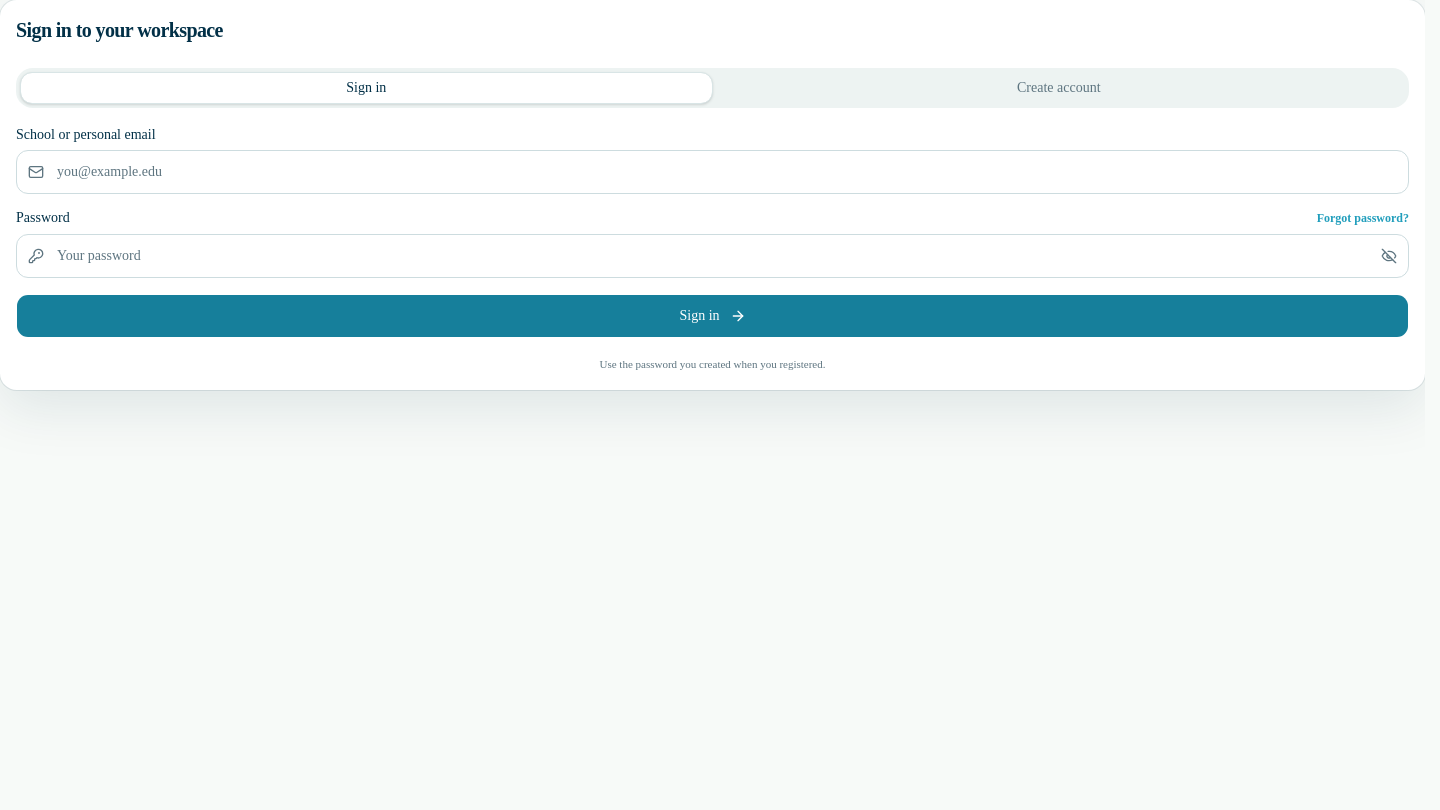
Test: AuthForm › does not register when the password confirmation differs
Click the button "Create account". click: (1059, 88)
box: top-left (712, 72), bottom-right (1405, 104)
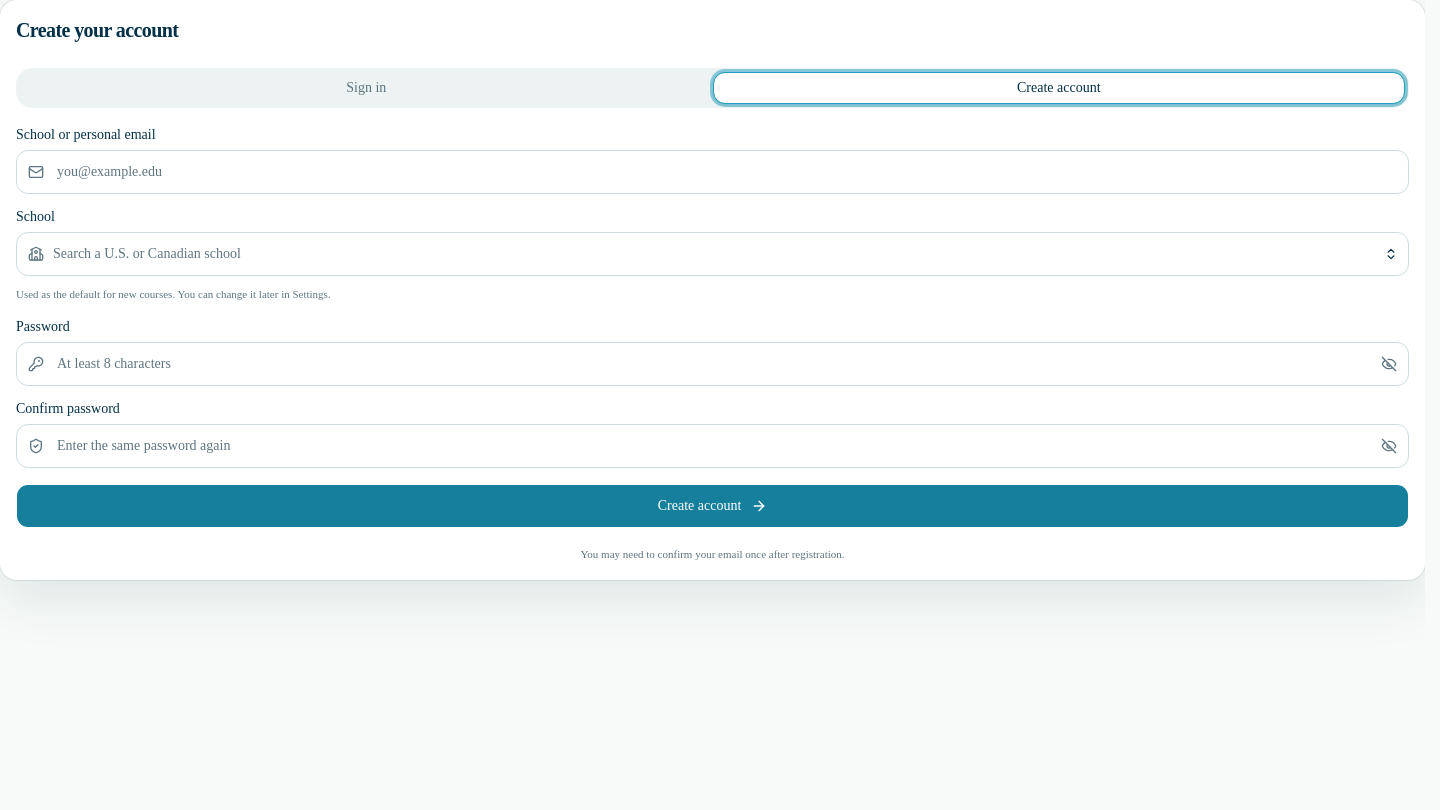
Type "new@example.edu" into the field labelled "School or personal email". click: (712, 172)
box: top-left (16, 150), bottom-right (1409, 194)
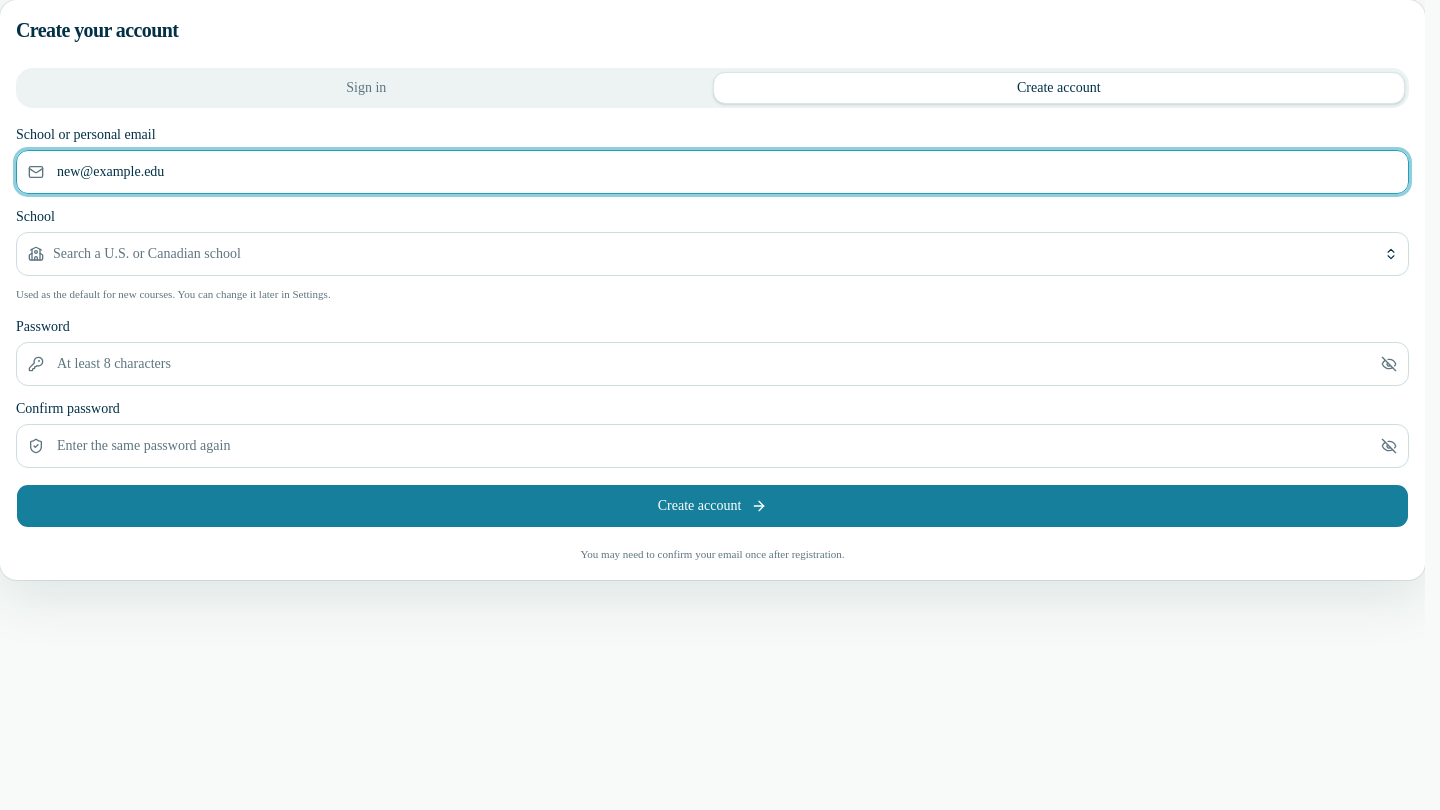
Type "strong-pass-123" into the password field labelled "Password". click: (712, 364)
box: top-left (16, 342), bottom-right (1409, 386)
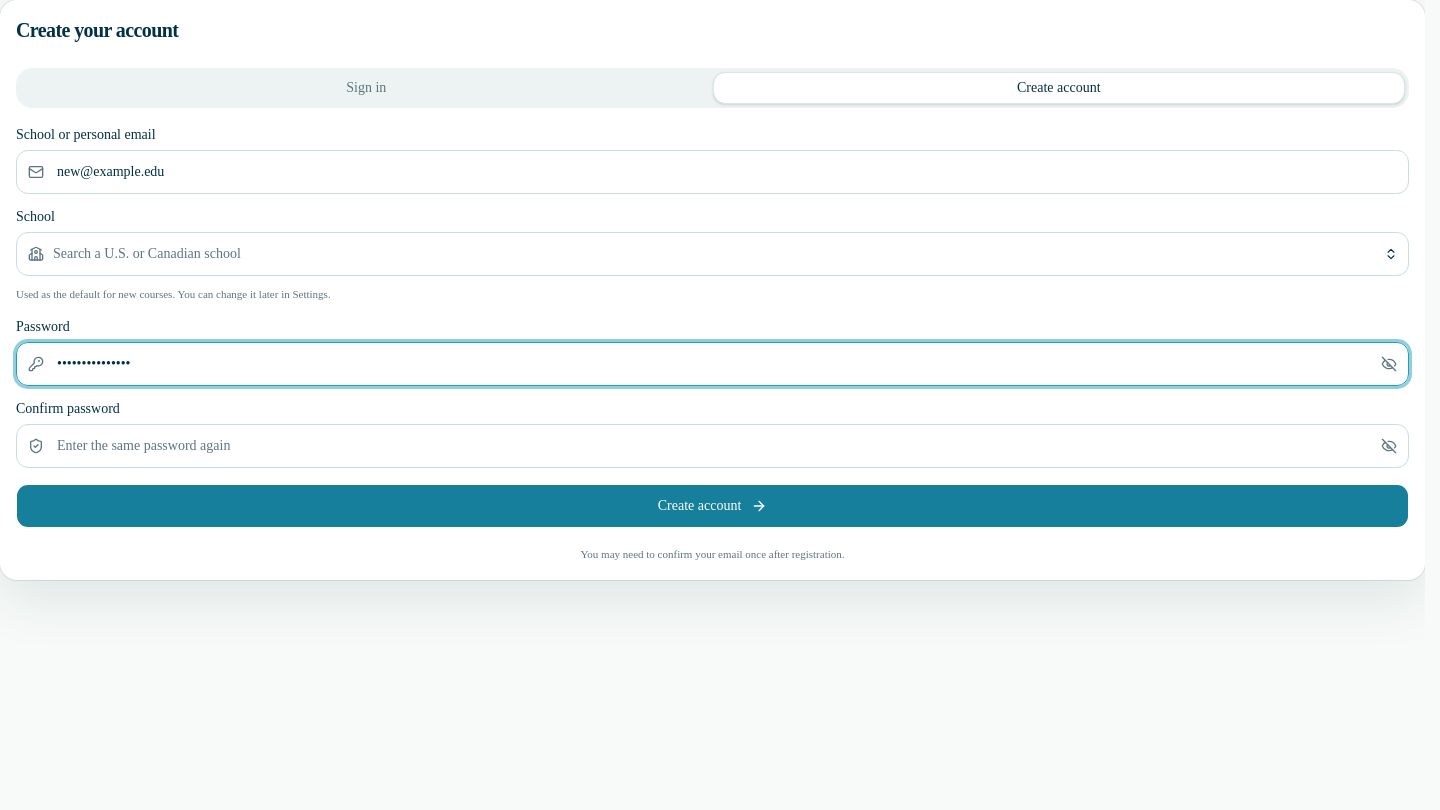
Type "different-pass-123" into the password field labelled "Confirm password". click: (712, 446)
box: top-left (16, 424), bottom-right (1409, 468)
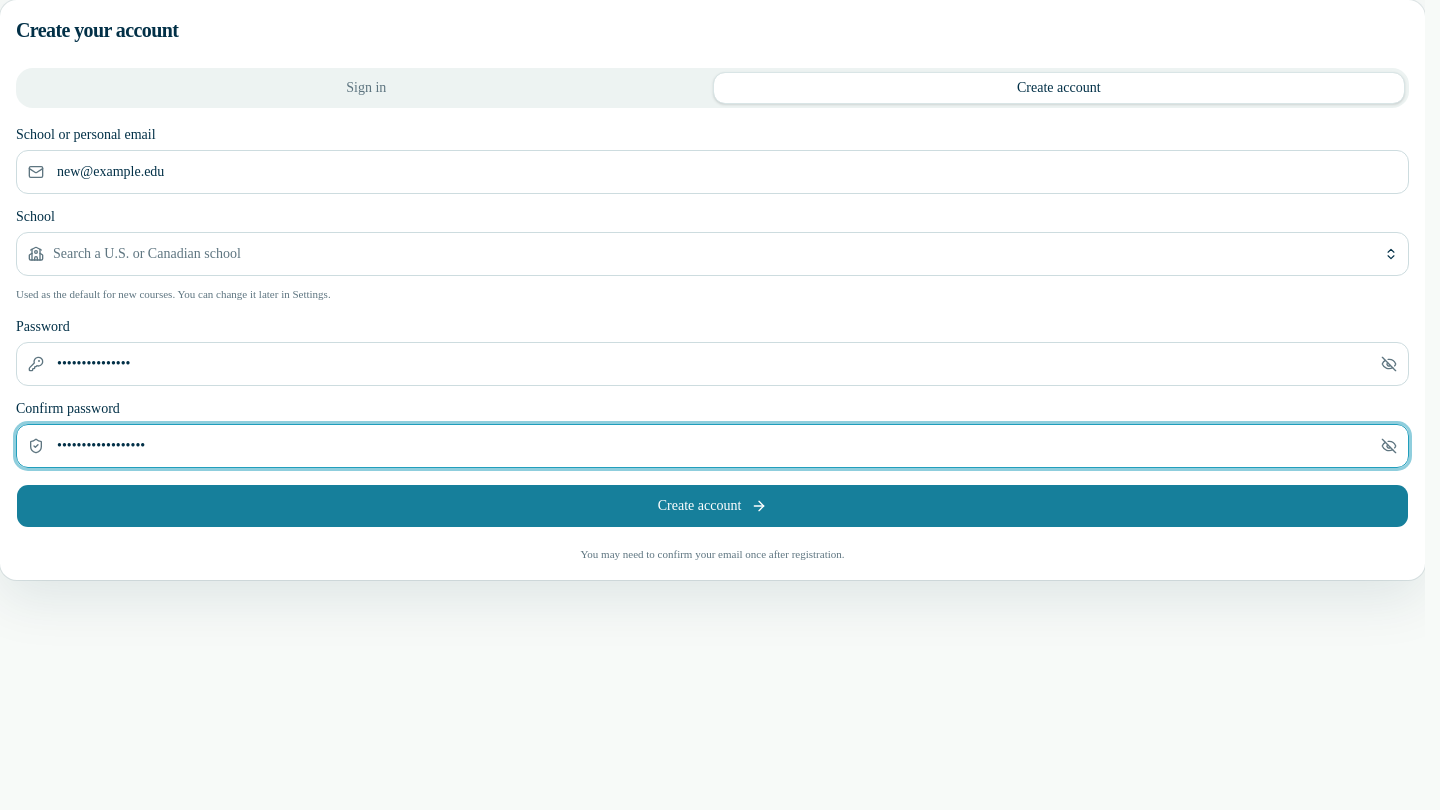
Click the button "Create account" below "Confirm password". click: (712, 506)
box: top-left (16, 484), bottom-right (1409, 528)
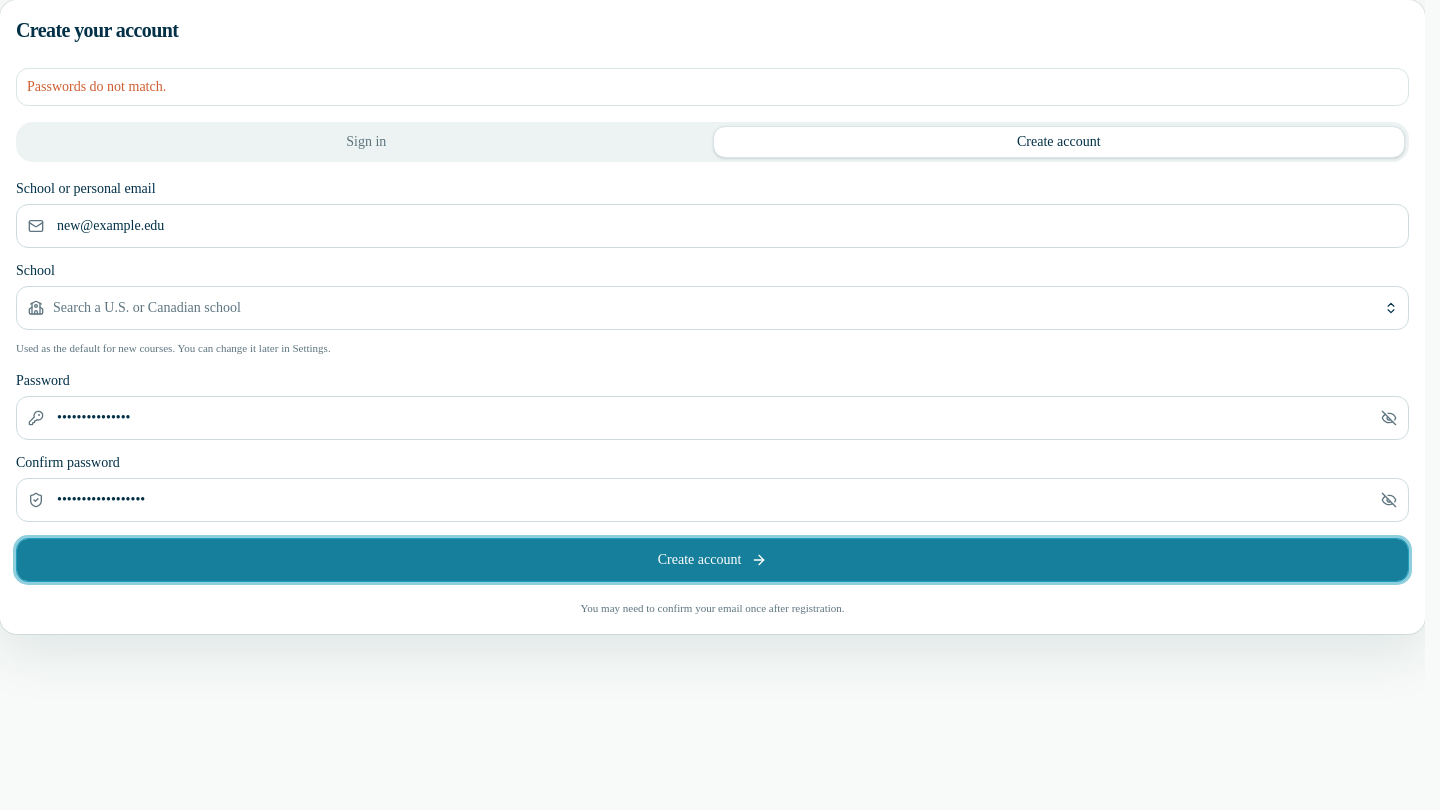
Now the message shows "Passwords do not match", box top-left (27, 79), bottom-right (166, 94)
